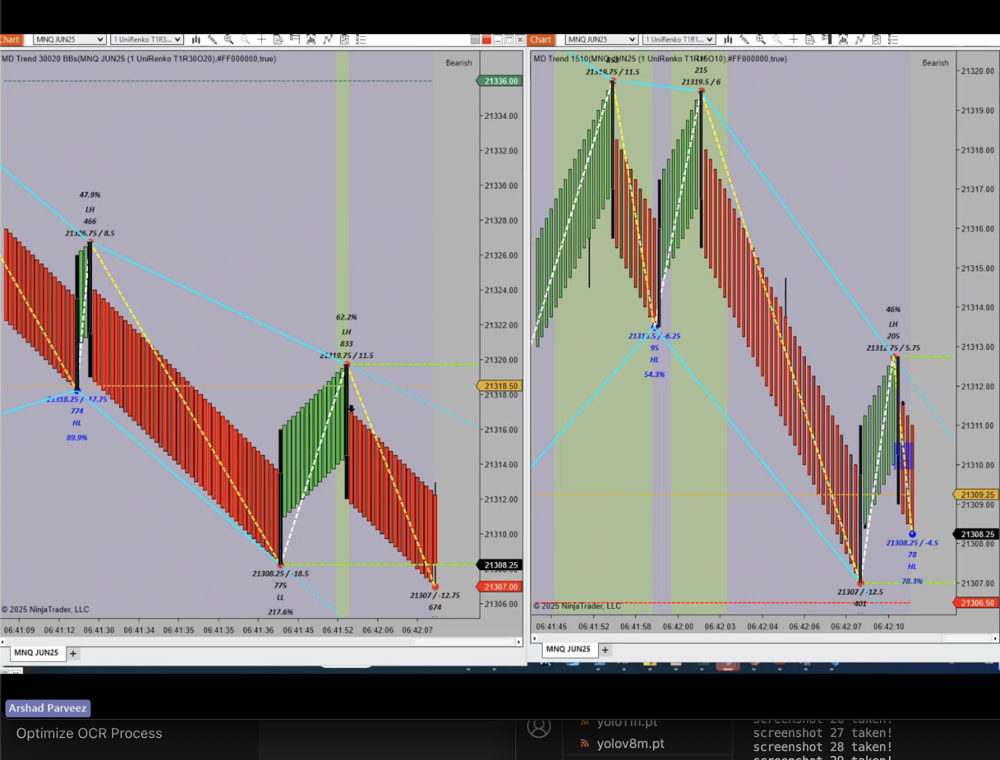HL: (902, 558, 920, 575), (644, 350, 662, 366), (68, 416, 86, 430)
LH: (883, 316, 904, 332), (336, 325, 359, 339), (81, 203, 102, 217)
LL: (271, 590, 290, 604)
